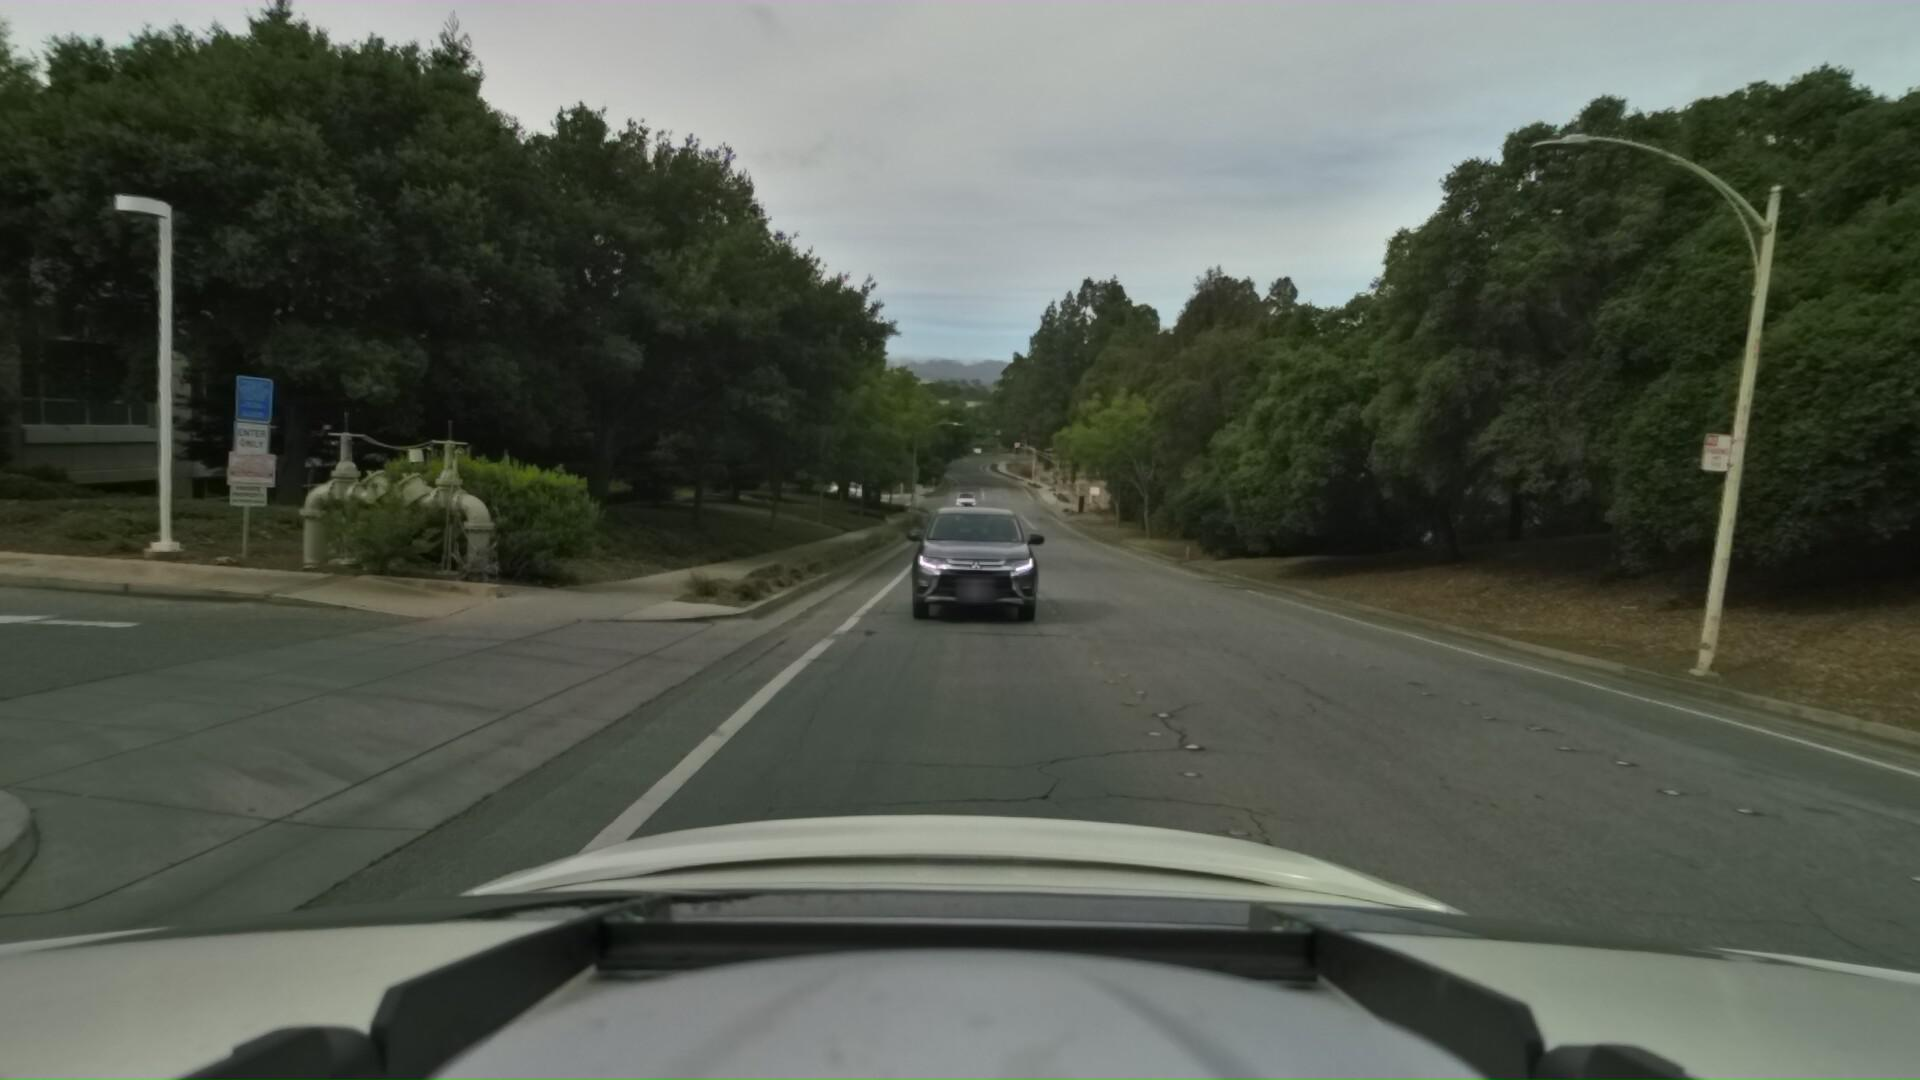car: (894, 483, 1048, 665)
